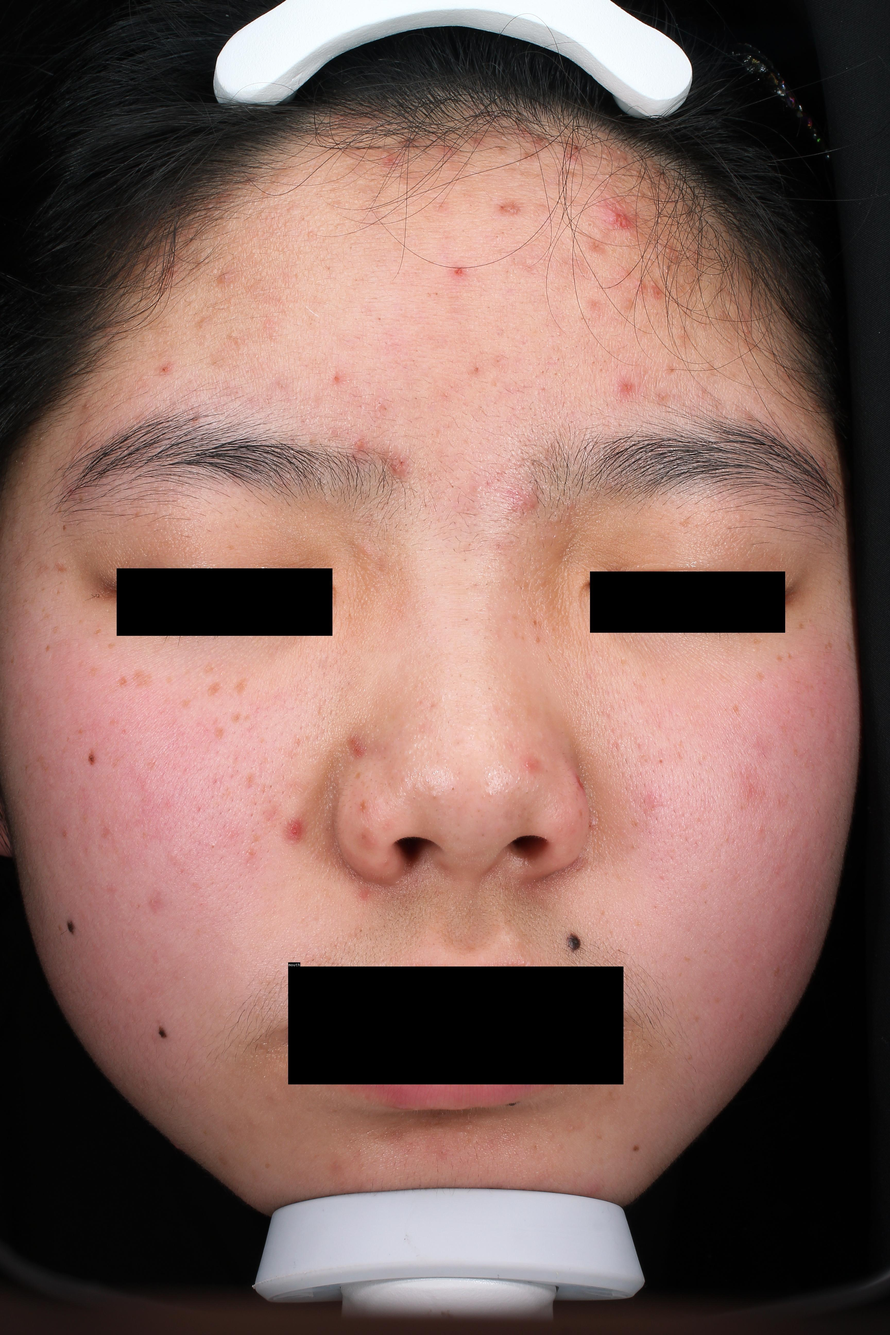atrophic_scar: (498, 203, 523, 217), (426, 700, 439, 710), (658, 875, 666, 883), (198, 807, 202, 814)
closed_comedo: (664, 263, 670, 274), (228, 331, 236, 339), (431, 793, 438, 800), (487, 791, 494, 798), (228, 296, 235, 303), (602, 152, 608, 159), (570, 1126, 574, 1130), (308, 233, 313, 236), (572, 156, 576, 159)
melasma: (131, 671, 154, 691), (242, 772, 256, 792), (33, 562, 47, 581), (207, 684, 221, 699), (98, 824, 111, 840), (236, 677, 245, 699), (114, 672, 126, 688), (212, 728, 225, 742), (105, 755, 118, 769), (56, 560, 69, 574), (230, 710, 242, 724), (801, 683, 815, 695), (201, 660, 212, 675), (678, 517, 694, 527), (144, 759, 157, 771), (177, 700, 192, 709), (754, 672, 766, 683), (87, 666, 97, 677), (806, 707, 815, 719), (39, 608, 47, 620), (752, 638, 764, 646), (50, 624, 59, 634), (619, 658, 628, 668), (91, 629, 102, 636), (225, 544, 236, 551), (106, 643, 118, 649), (166, 679, 176, 686), (774, 656, 782, 664), (733, 706, 740, 714), (640, 671, 647, 679), (824, 643, 833, 649), (847, 643, 852, 653), (109, 721, 116, 728), (43, 645, 50, 652), (532, 620, 539, 627), (76, 619, 83, 625), (786, 653, 792, 660), (798, 623, 803, 629)
nevus: (567, 931, 581, 954), (67, 921, 75, 934), (86, 755, 94, 766), (158, 1028, 165, 1038), (632, 1144, 640, 1152), (506, 1101, 514, 1108), (61, 524, 67, 533)
nodule: (500, 479, 542, 518)
open_comedo: (585, 220, 596, 228), (210, 843, 217, 851), (375, 399, 382, 407), (473, 366, 480, 373), (358, 927, 364, 934), (511, 256, 517, 262), (555, 357, 561, 363), (464, 616, 470, 622), (434, 291, 440, 297), (658, 758, 664, 764), (540, 370, 546, 375), (450, 786, 456, 791), (501, 230, 506, 235), (591, 360, 596, 365), (599, 368, 604, 373), (487, 686, 492, 691), (403, 523, 408, 528), (553, 371, 559, 375), (509, 227, 514, 231), (494, 235, 499, 239), (449, 674, 454, 678), (377, 317, 382, 321), (467, 542, 472, 546), (563, 284, 568, 288), (485, 583, 488, 587)
other: (453, 265, 466, 277)
papule: (603, 210, 628, 227), (287, 820, 303, 837), (524, 756, 539, 771), (392, 461, 405, 475), (648, 284, 660, 299), (619, 381, 632, 394), (381, 150, 393, 163), (217, 272, 231, 283), (330, 372, 341, 383), (623, 298, 634, 308), (589, 819, 599, 828), (161, 365, 170, 372), (81, 403, 89, 410), (636, 280, 644, 287), (821, 460, 826, 466), (745, 328, 749, 333), (366, 893, 370, 897)
pustule: (355, 438, 363, 448)
